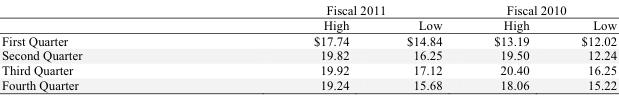table: (0, 0, 616, 93)
table column: (0, 0, 197, 93), (197, 0, 377, 93), (377, 0, 467, 93), (467, 0, 554, 93), (554, 0, 616, 93)
table column header: (0, 0, 616, 32)
table row: (0, 0, 616, 16), (0, 16, 616, 32), (0, 77, 616, 93), (0, 32, 616, 47), (0, 47, 616, 62), (0, 62, 616, 77)
table spanning cell: (197, 0, 467, 16), (467, 0, 616, 16)
